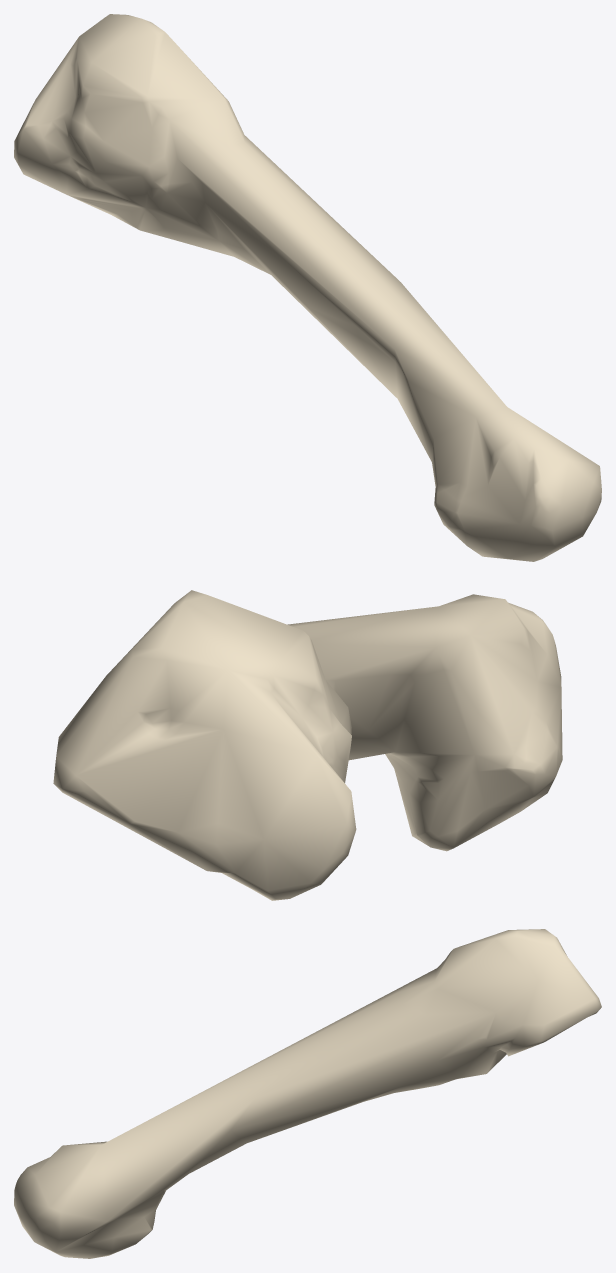
The model's file is fourth-metatarsal-bone-l.glb.
3 views of the same model, one above another, from view 1: azimuth 30°, elevation 25°; view 2: azimuth 150°, elevation 25°; view 3: azimuth 270°, elevation 25° (orthographic). The views are drawn at different scales.
Visible parts, largest first — view 1: Fourth metatarsal bone.l; view 2: Fourth metatarsal bone.l; view 3: Fourth metatarsal bone.l.
Part boxes in pixels (x1,y1,x2,y2): Fourth metatarsal bone.l: (14,14,601,561); Fourth metatarsal bone.l: (53,590,562,900); Fourth metatarsal bone.l: (14,929,601,1258).
Size of the model in its own units: 0.0299 by 0.037 by 0.0685.
